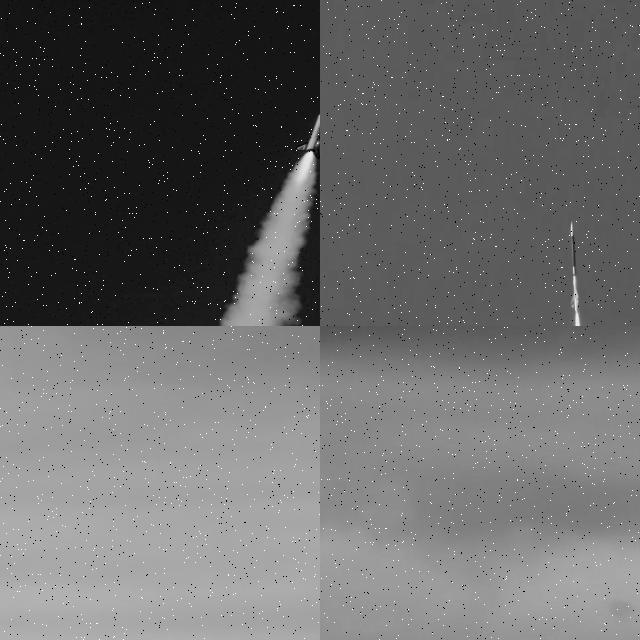Rocket: (295, 96, 320, 160), (570, 221, 580, 308)
